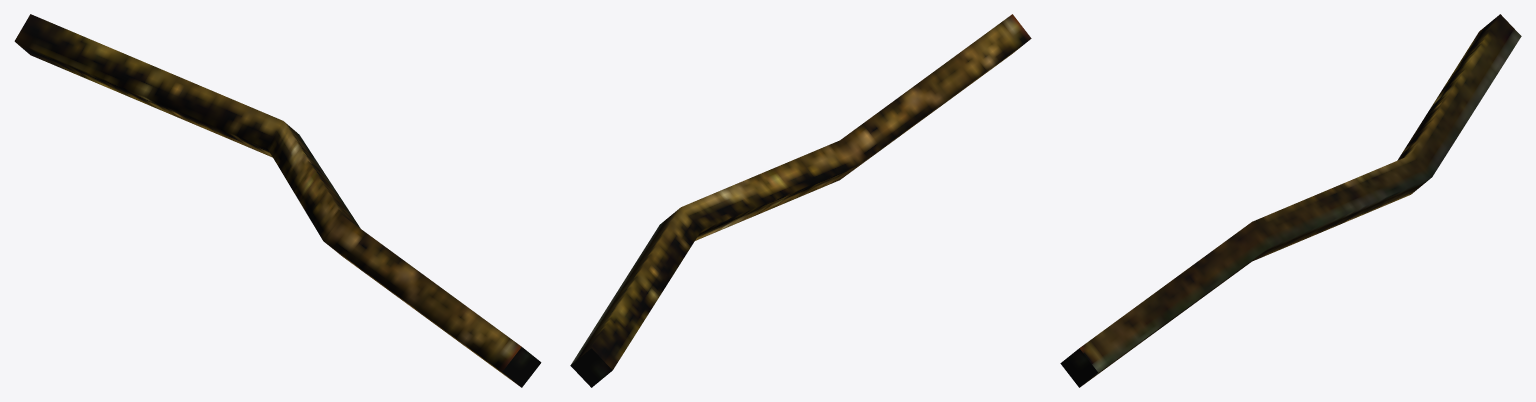
The model's file is pipe1.fbx.
3 views of the same model, side by side, from view 1: azimuth 30°, elevation 25°; view 2: azimuth 150°, elevation 25°; view 3: azimuth 330°, elevation 25° (orthographic). The views are drawn at different scales.
Parts seen in each view (by area): view 1: pipe49; view 2: pipe49; view 3: pipe49.
Part boxes in pixels (x1,y1,x2,y2): pipe49: (14, 14, 541, 387); pipe49: (570, 14, 1031, 387); pipe49: (1060, 14, 1521, 387).
Bounding box in the file's own units: 0.2487 × 0.0829 × 1.7.
Materials: 1 (1 with a texture image).
